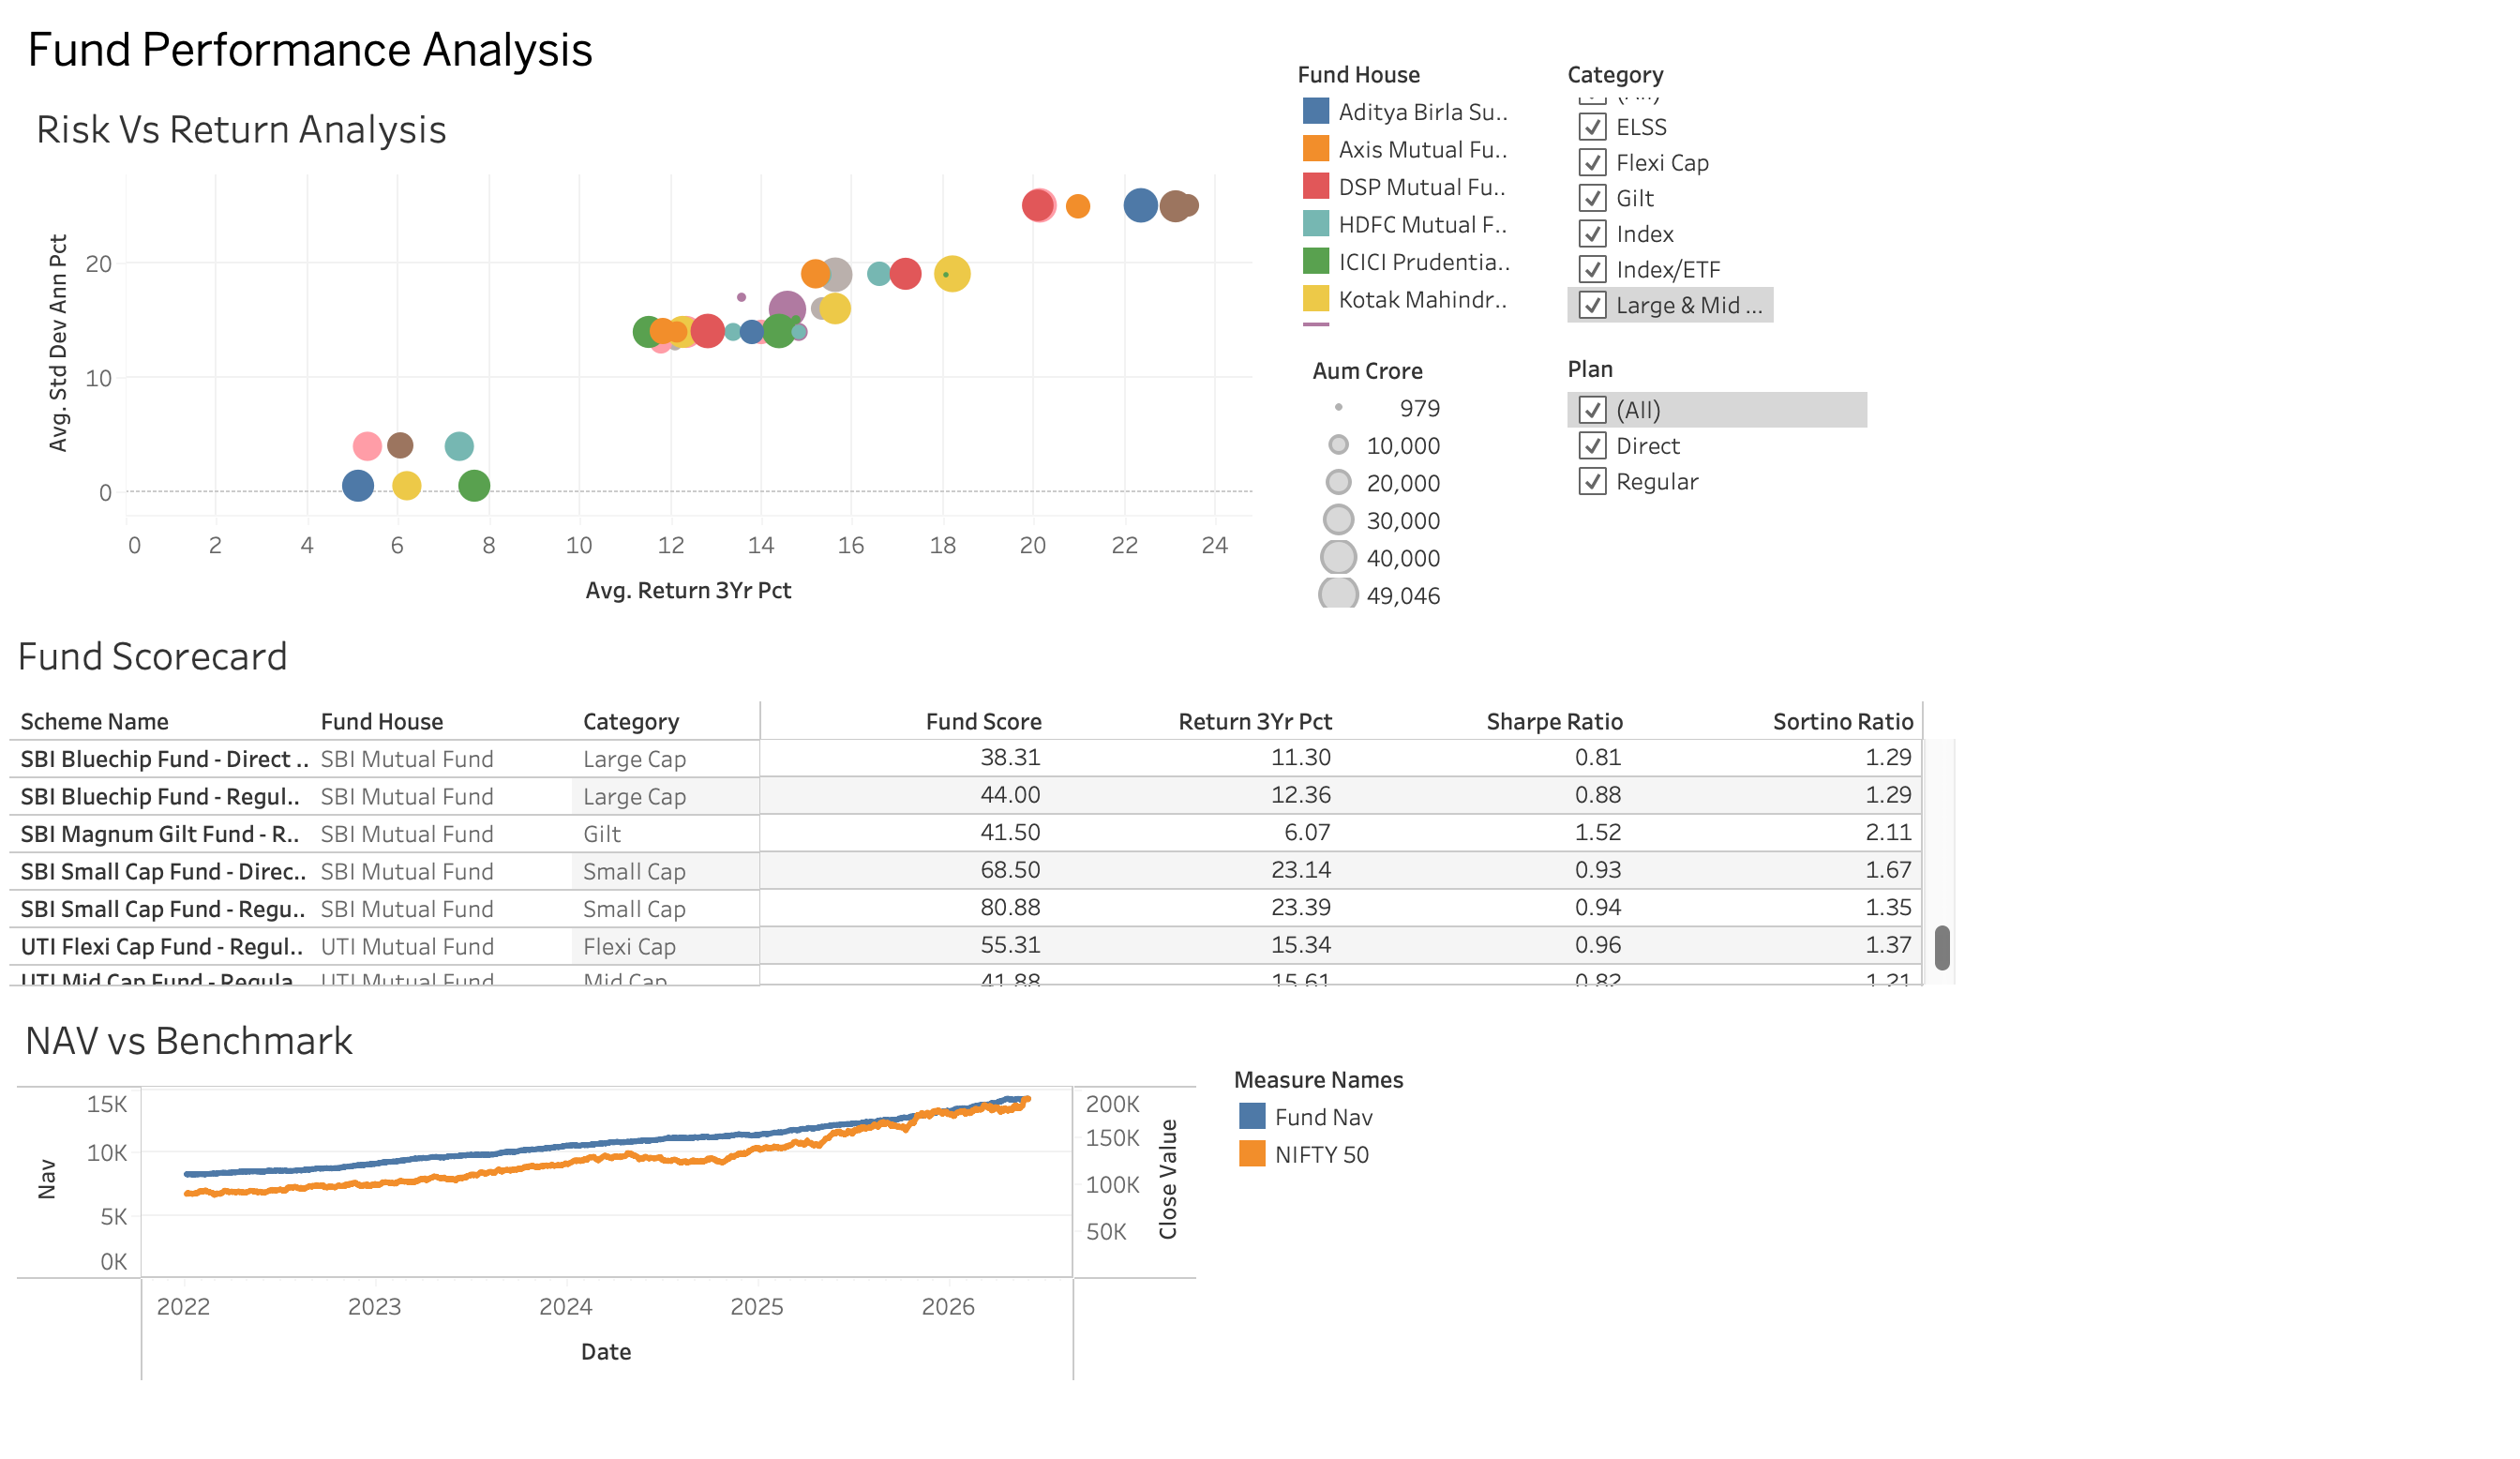

The dashboard page shown, as its layout file describes it:
{"tool":"tableau","page":{"name":"Dashboard 2","canvas":[1366,768],"ordinal":1},"visuals":[{"type":"title","box":[8,8,1350,39]},{"type":"legend","title":"Fund Performance Scatter Plot.","param":"[federated.1mv2zjj0ygra7o1372wbn0zn3fx3].[none:fund_house:nk]","box":[692,32,134,143]},{"type":"filter","title":"Fund Performance Scatter Plot.","param":"[federated.1mv2zjj0ygra7o1372wbn0zn3fx3].[none:category:nk]","box":[836,32,110,141]},{"type":"worksheet","title":"Fund Performance Scatter Plot.","mark":"Circle","rows":["std_dev_ann_pct"],"cols":["return_3yr_pct"],"box":[15,51,653,280]},{"type":"filter","title":"Fund Performance Scatter Plot.","param":"[federated.1mv2zjj0ygra7o1372wbn0zn3fx3].[none:plan:nk]","box":[836,189,160,81]},{"type":"legend","title":"Fund Performance Scatter Plot.","param":"[federated.1mv2zjj0ygra7o1372wbn0zn3fx3].[sum:aum_crore:qk]","box":[700,190,122,135]},{"type":"worksheet","title":"Fund Scorecard ","mark":"Automatic","rows":["scheme_name","fund_house","category"],"box":[5,332,1110,195]},{"type":"worksheet","title":"NAV vs Benchmark ","mark":"Line","rows":["nav","close_value"],"cols":["date"],"box":[9,537,630,201]},{"type":"legend","title":"NAV vs Benchmark ","param":"[federated.1mv2zjj0ygra7o1372wbn0zn3fx3].[:Measure Names]","box":[658,568,140,58]}]}

Visuals, with their boxes in screenshot pixels (x1, y1, x2, y2), scaled from the page's 1366x768 canvas onto the 2520x1459 screenshot:
title: rect(15, 15, 2505, 89)
"Fund Performance Scatter Plot." legend: rect(1277, 61, 1523, 333)
"Fund Performance Scatter Plot." filter: rect(1542, 61, 1746, 329)
"Fund Performance Scatter Plot." worksheet (Circle marks): rect(28, 97, 1232, 629)
"Fund Performance Scatter Plot." filter: rect(1542, 359, 1837, 513)
"Fund Performance Scatter Plot." legend: rect(1291, 361, 1517, 617)
"Fund Scorecard " worksheet: rect(9, 631, 2057, 1001)
"NAV vs Benchmark " worksheet (Line marks): rect(17, 1020, 1178, 1402)
"NAV vs Benchmark " legend: rect(1214, 1079, 1472, 1189)
